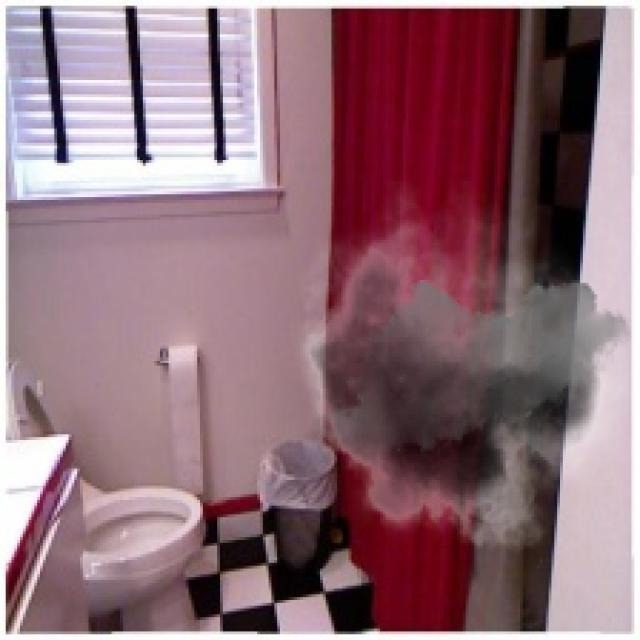Smoke: (279, 177, 632, 569)
